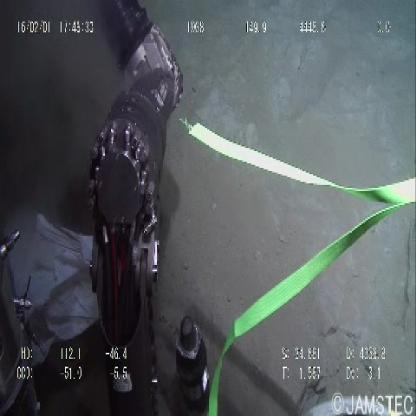Rov: (88, 3, 209, 413)
Rác: (3, 204, 108, 368)
